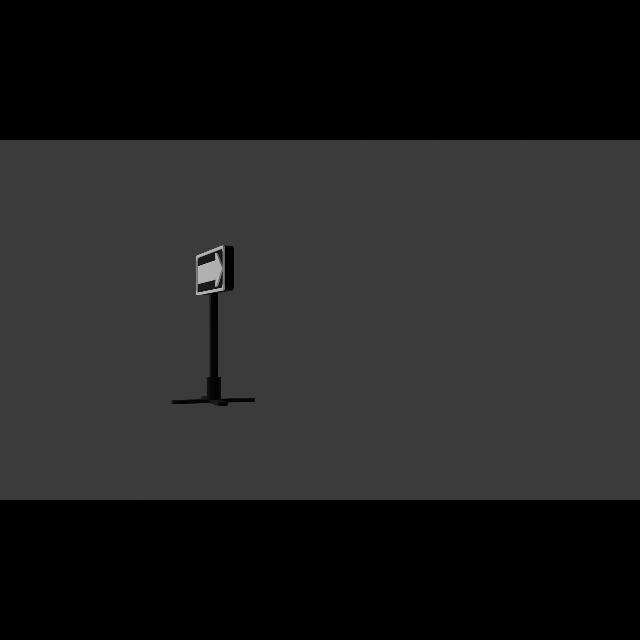sign_oneway_right: (194, 244, 234, 298)
